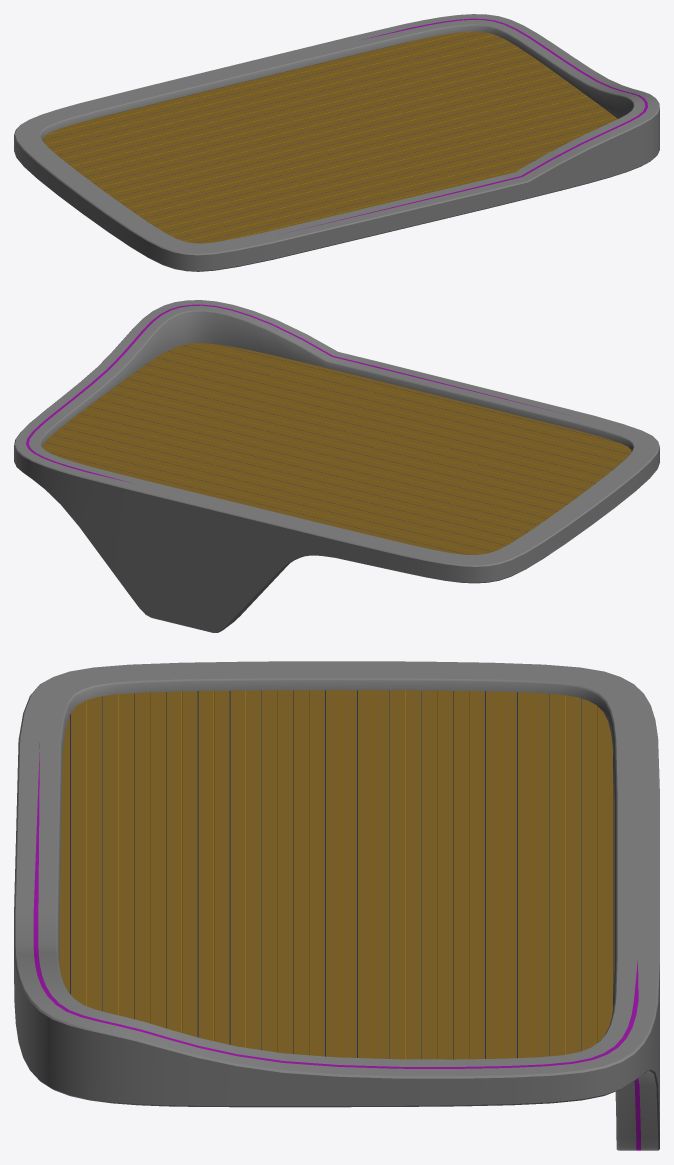
The model's file is SM_BuildingMK2_Middle02.fbx.
The picture shows the model from 3 angles, top to bottom: view 1: azimuth 30°, elevation 25°; view 2: azimuth 150°, elevation 25°; view 3: azimuth 270°, elevation 25°; orthographic projection. The views are drawn at different scales.
Visible parts, largest first — view 1: Middle02; view 2: Middle02; view 3: Middle02.
Part boxes in pixels (x1,y1,x2,y2): Middle02: (14, 14, 659, 271); Middle02: (14, 300, 659, 632); Middle02: (14, 661, 659, 1150).
Bounding box in the file's own units: 2092 × 586 × 1368.
